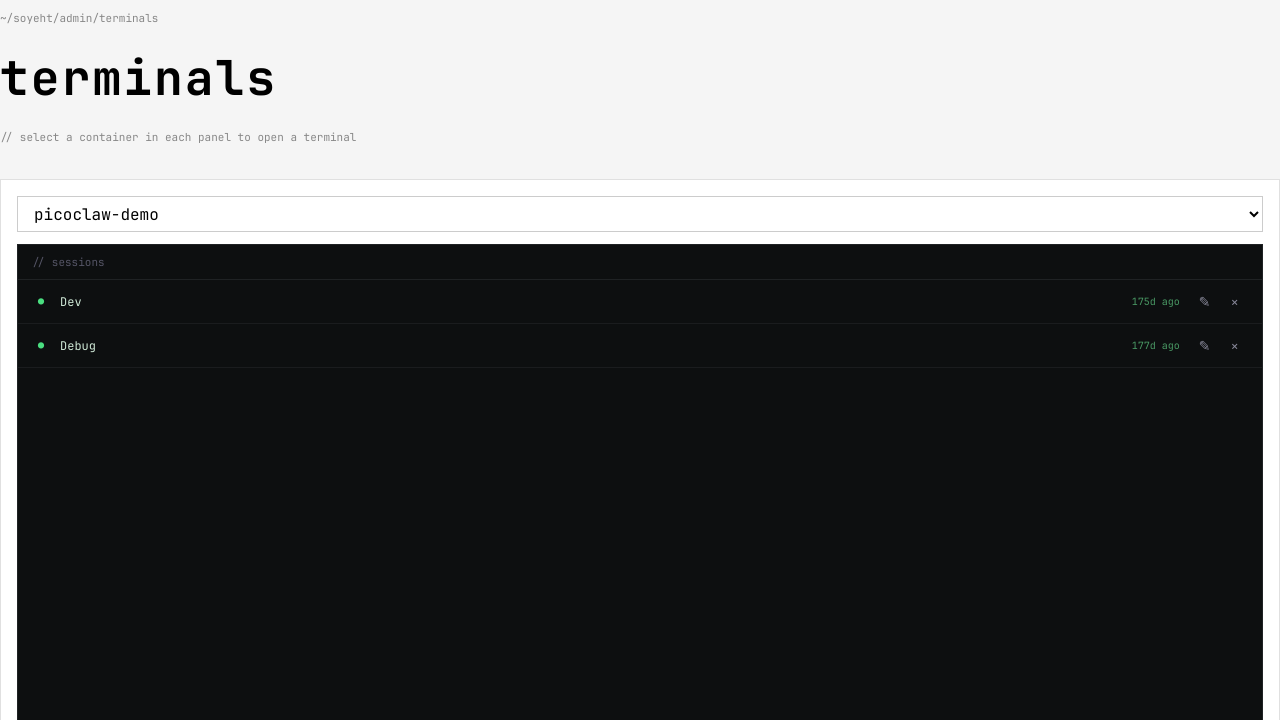
Test: Session picker (multi-workspace) › delete inactive session shows simple confirm
Step 1. Click the button with test id "delete-ws-2" → (1235, 346), box [1222,334,1248,358]
(page scrolled)
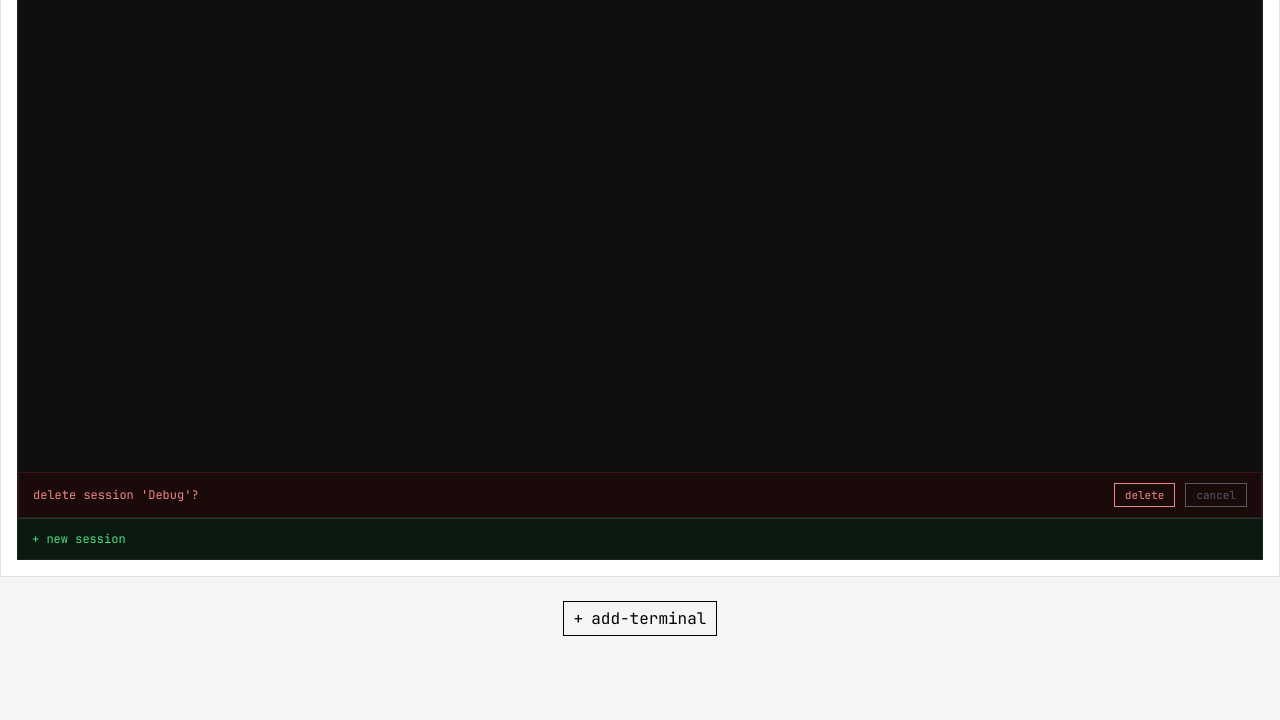
Now the element with test id "confirm-delete" is shown, box [18,472,1262,518]
Now the element with test id "confirm-delete" shows "delete session", box [33,487,199,503]
